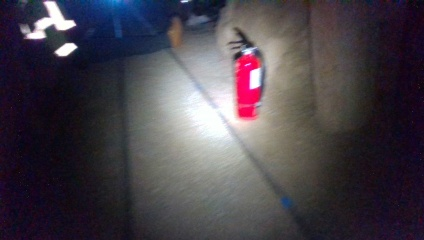fire_extinguisher: (228, 31, 267, 121)
manikin: (16, 5, 183, 64)
